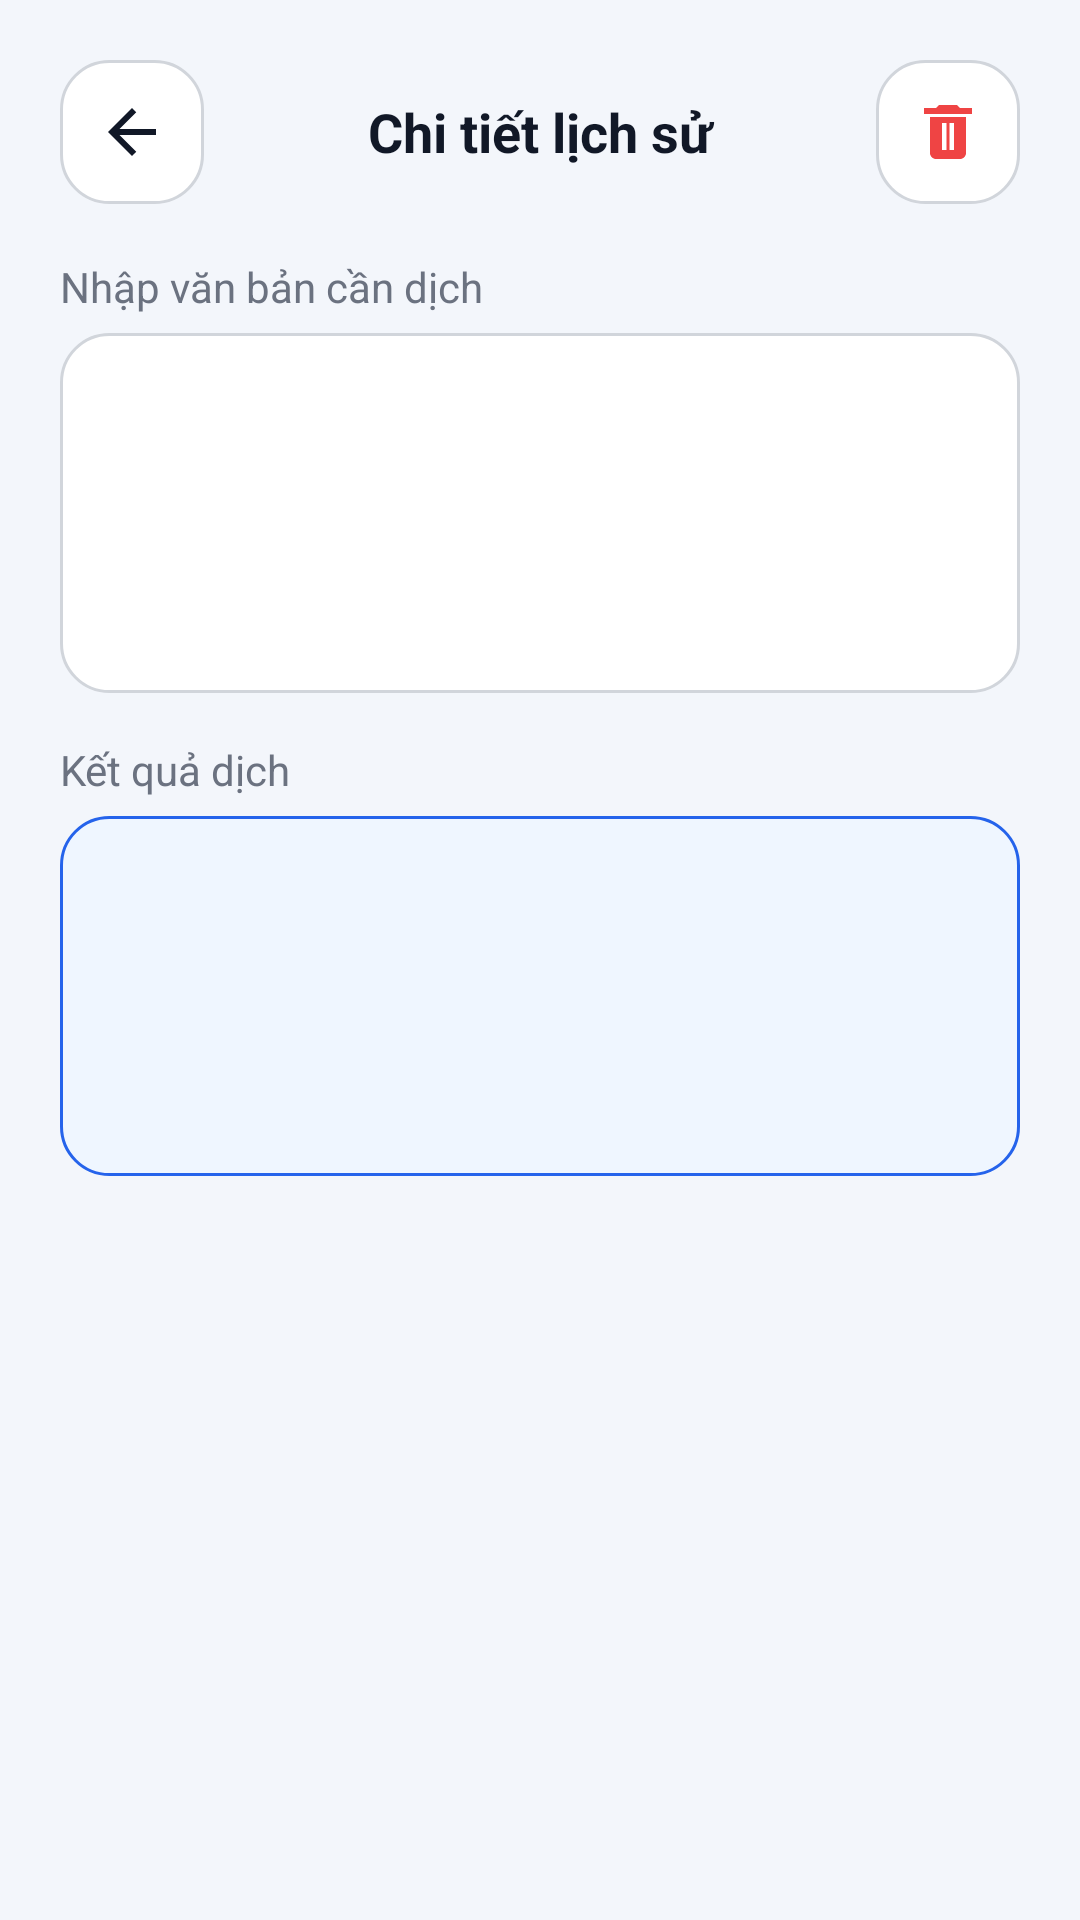

Icons on this 1080*1920 Android screen, each with the point to tap as point (x, y):
Quay lại: point (132, 132)
Xóa: point (948, 132)
